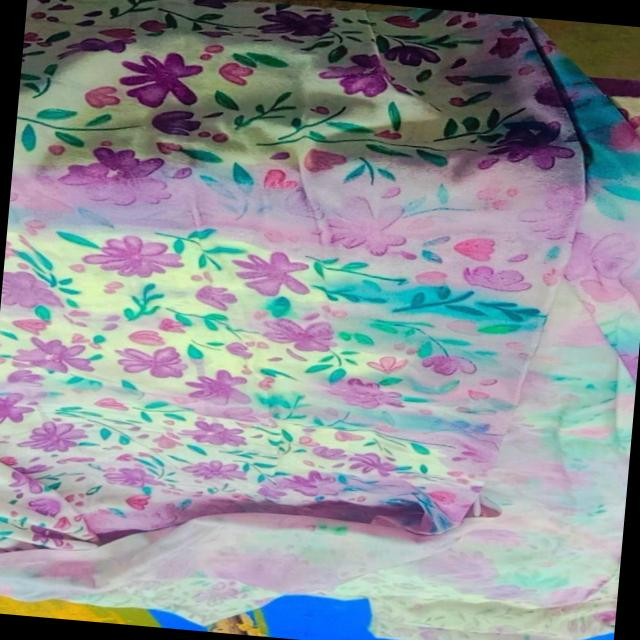baekra: (5, 127, 640, 309), (0, 353, 608, 475), (276, 277, 620, 415), (444, 12, 640, 185)
